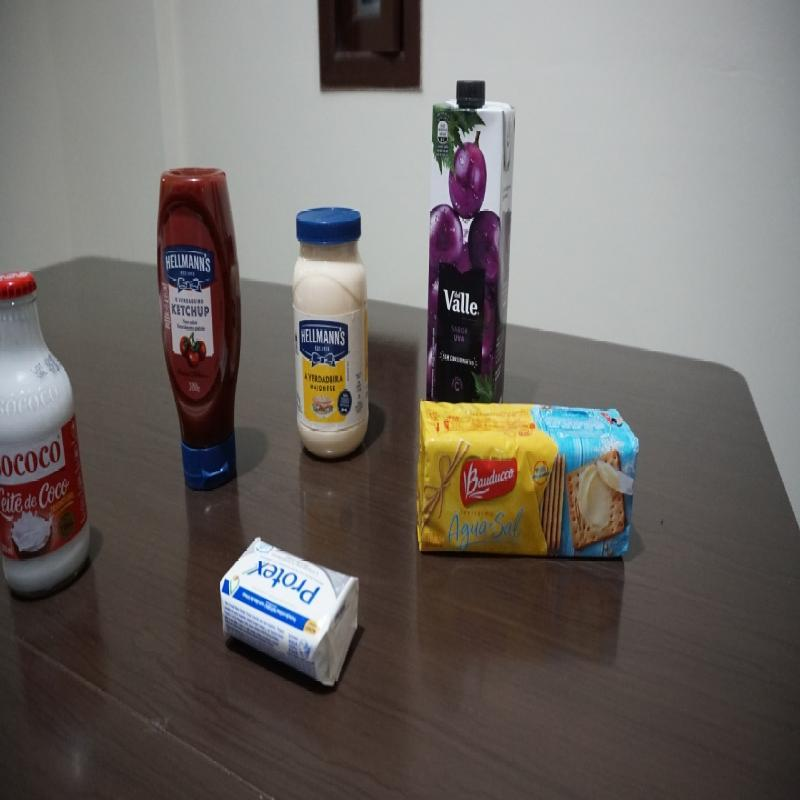Coconut Milk: (1, 265, 92, 597)
Cracker: (413, 402, 640, 563)
Ketchup: (156, 163, 242, 490)
Mayonnaise: (291, 202, 371, 458)
Soap: (218, 535, 360, 688)
